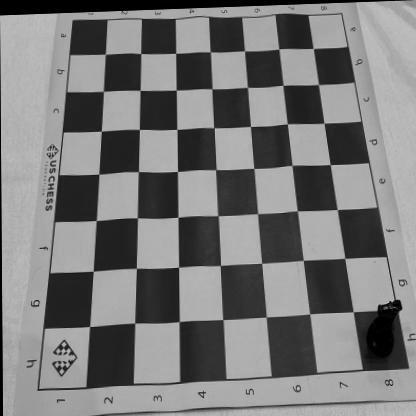black-knight: (366, 299, 402, 358)
